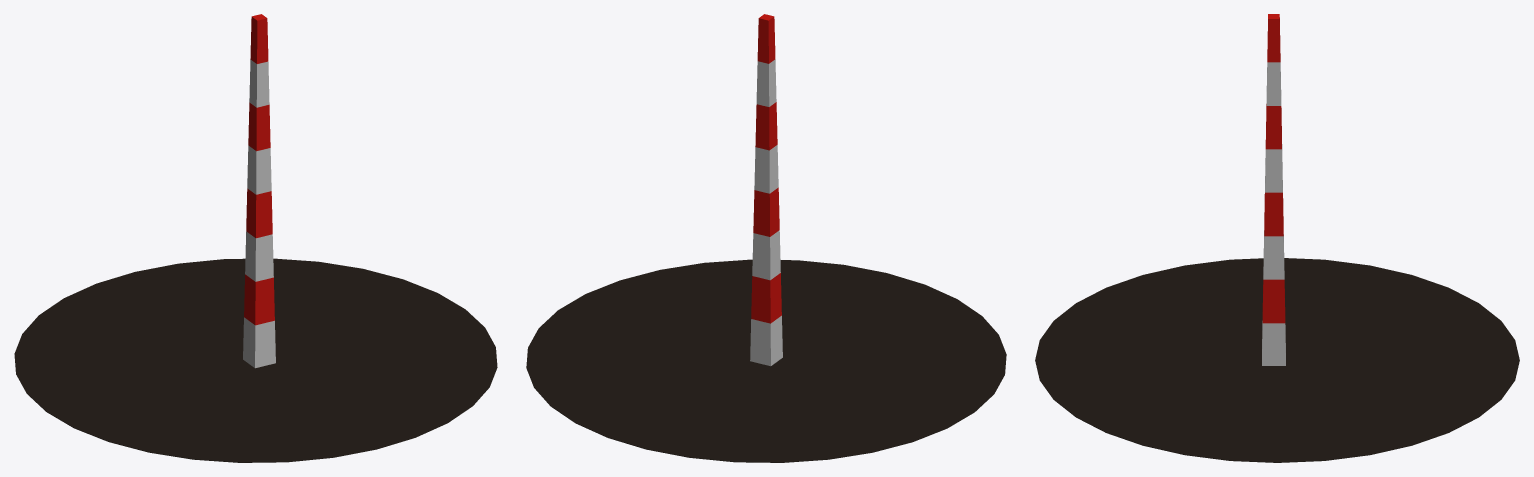
Rendered from Flare For LNG Train 1-2.fbx.
3 views of the same model, side by side, from view 1: azimuth 30°, elevation 25°; view 2: azimuth 150°, elevation 25°; view 3: azimuth 270°, elevation 25° (orthographic).
Visible parts, largest first — view 1: Flare; view 2: Flare; view 3: Flare.
Part boxes in pixels (box(x1,y1,x2,y2)): Flare: box(14, 14, 497, 462); Flare: box(526, 14, 1006, 462); Flare: box(1035, 14, 1519, 462).
Bounding box in the file's own units: 100 × 78.74 × 100.
